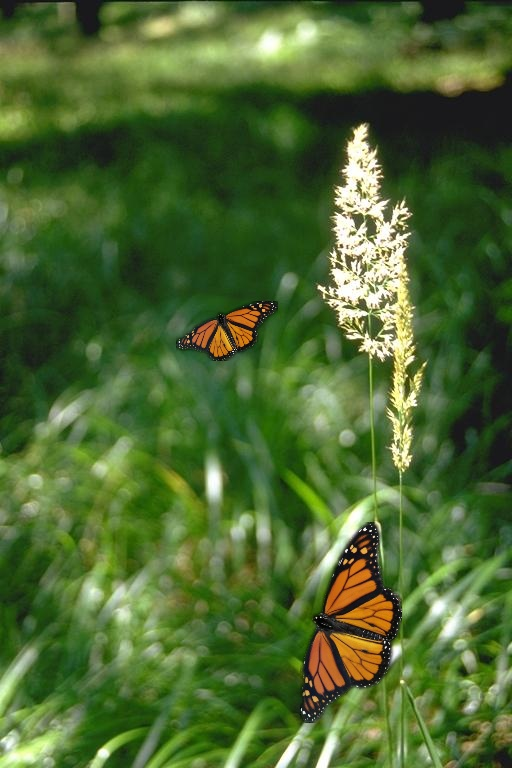danaus_plexippus: (300, 522, 402, 723), (176, 301, 278, 361)
